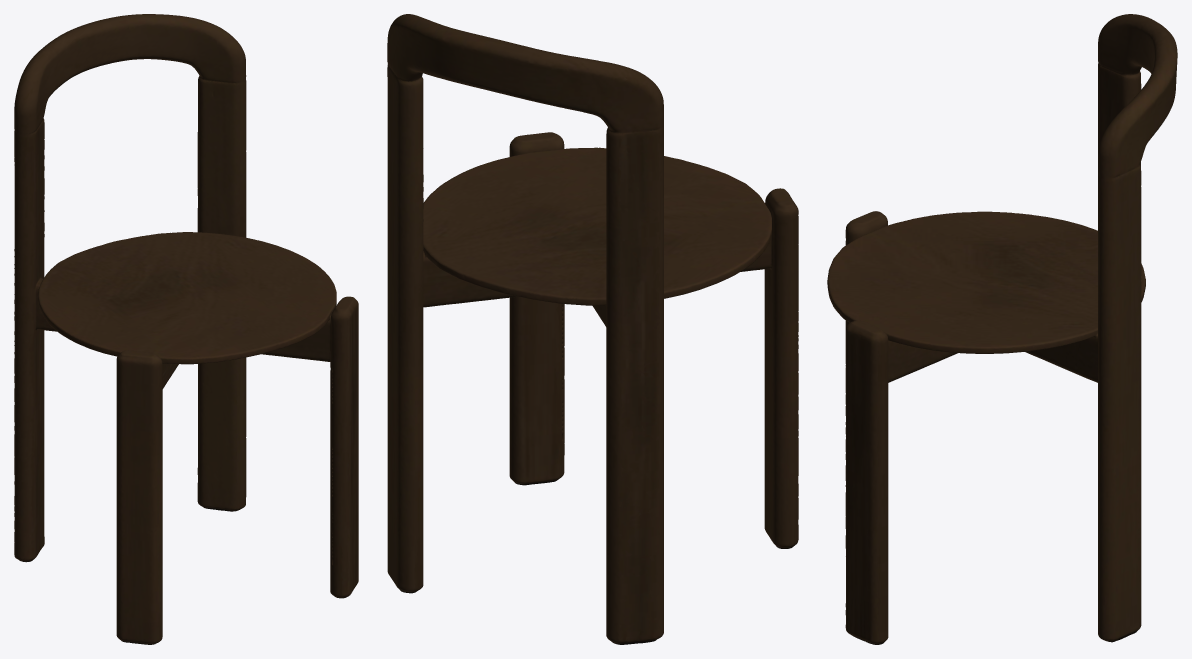
File: Minimalist Dark Wood Side Chair [1WGNjq].glb
3 views of the same model, side by side, from view 1: azimuth 30°, elevation 25°; view 2: azimuth 150°, elevation 25°; view 3: azimuth 270°, elevation 25° (orthographic). The views are drawn at different scales.
Parts seen in each view (by area): view 1: world; view 2: world; view 3: world.
Boxes of the visible parts, x1,y1,x2,y2 form: world: (14, 14, 358, 644); world: (387, 14, 798, 644); world: (827, 14, 1177, 644).
Bounding box in the file's own units: 0.5487 × 1 × 0.5944.
1 material, 1 textured.
